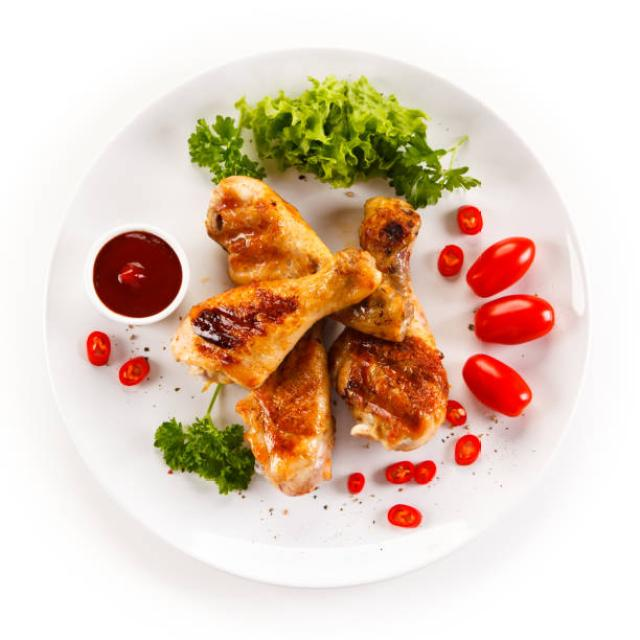Frango: (172, 173, 450, 497)
